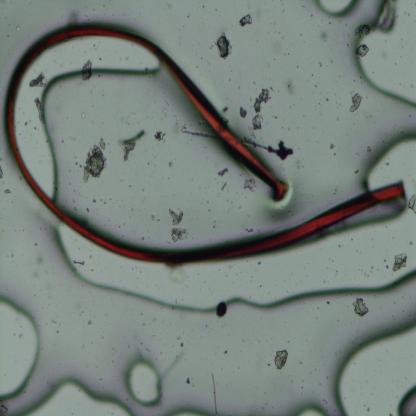Air bubble: (48, 219, 416, 315), (17, 33, 156, 191), (332, 314, 416, 414), (352, 1, 416, 108), (21, 372, 135, 416), (0, 295, 45, 399), (368, 129, 416, 193), (127, 355, 164, 406), (157, 398, 216, 416), (314, 0, 361, 19), (294, 395, 327, 416), (397, 385, 416, 416)
Background material: (243, 137, 297, 162), (79, 138, 108, 184), (121, 130, 145, 164), (252, 86, 270, 130), (166, 206, 188, 242), (179, 124, 215, 142), (213, 34, 233, 63), (389, 250, 411, 270), (353, 295, 372, 318), (216, 165, 233, 189), (280, 74, 297, 98), (274, 348, 289, 372), (68, 250, 88, 267), (348, 94, 362, 116), (30, 74, 45, 92), (406, 192, 416, 217), (82, 59, 93, 81), (244, 176, 256, 194), (182, 373, 194, 390), (328, 140, 339, 158), (214, 303, 228, 317), (0, 184, 13, 199), (239, 12, 252, 27), (237, 104, 248, 121), (356, 43, 369, 57), (154, 130, 166, 142), (84, 319, 95, 327)
Microfibre: (1, 25, 406, 267)
